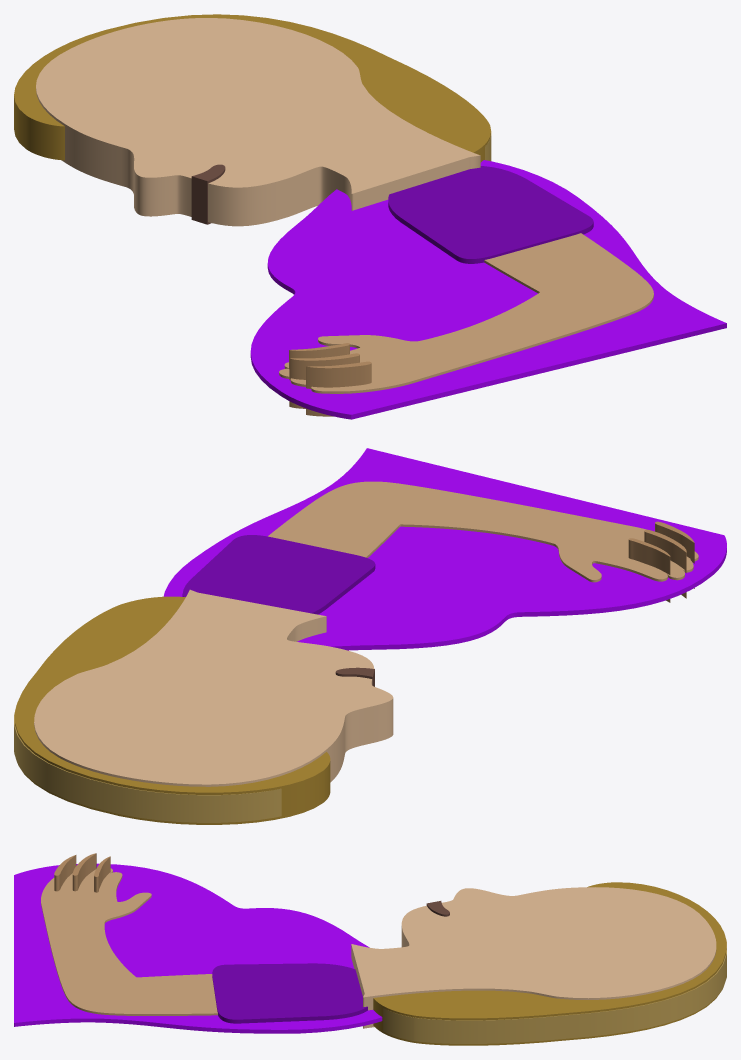
File: emoji_u1f930_1f3fc.glb
3 renders of one model, top to bottom at view 1: azimuth 30°, elevation 25°; view 2: azimuth 150°, elevation 25°; view 3: azimuth 270°, elevation 25°, orthographic. The views are drawn at different scales.
Parts seen in each view (by area): view 1: emoji_u1f930_1f3fc; view 2: emoji_u1f930_1f3fc; view 3: emoji_u1f930_1f3fc.
Boxes of the visible parts, left/top/right/bottom form: emoji_u1f930_1f3fc: left=14, top=14, right=726, bottom=419; emoji_u1f930_1f3fc: left=14, top=448, right=726, bottom=824; emoji_u1f930_1f3fc: left=14, top=853, right=726, bottom=1045.
Bounding box in the file's own units: 0.0183 × 0.002 × 0.0331.
